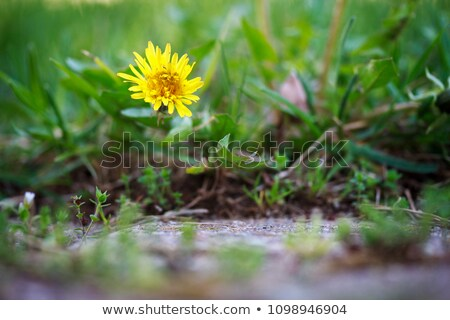dandelion: (121, 48, 213, 121)
